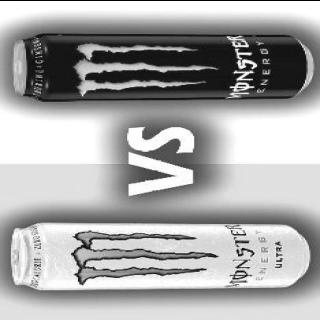alumunium_can: (8, 220, 312, 290), (10, 32, 312, 102)
